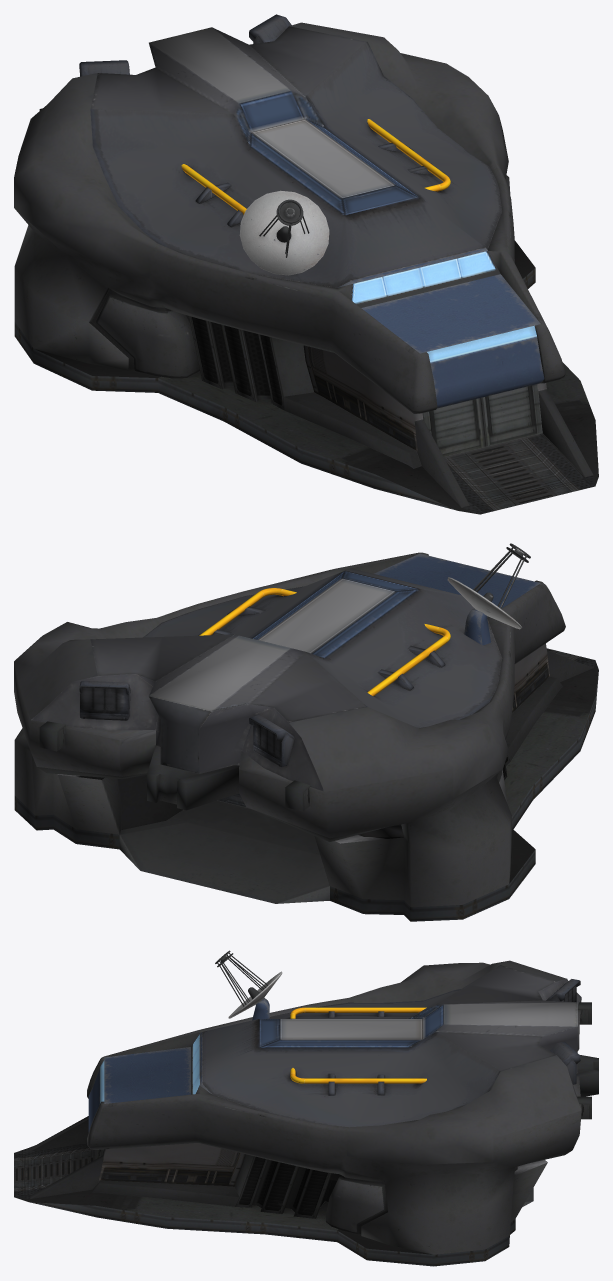
File: HQMesh.fbx
The picture shows the model from 3 angles, top to bottom: view 1: azimuth 30°, elevation 25°; view 2: azimuth 150°, elevation 25°; view 3: azimuth 270°, elevation 25°; orthographic projection. The views are drawn at different scales.
Parts seen in each view (by area): view 1: Mesh_001, Mesh; view 2: Mesh, Mesh_001; view 3: Mesh, Mesh_001.
Boxes of the visible parts, x1,y1,x2,y2 form: Mesh_001: (79,14,595,514); Mesh: (14,22,598,514); Mesh: (14,552,598,921); Mesh_001: (31,543,595,903); Mesh: (15,960,598,1266); Mesh_001: (14,950,581,1206).
Bounding box in the file's own units: 6.51 × 2.99 × 8.81.
Materials: 2 (2 with a texture image).
